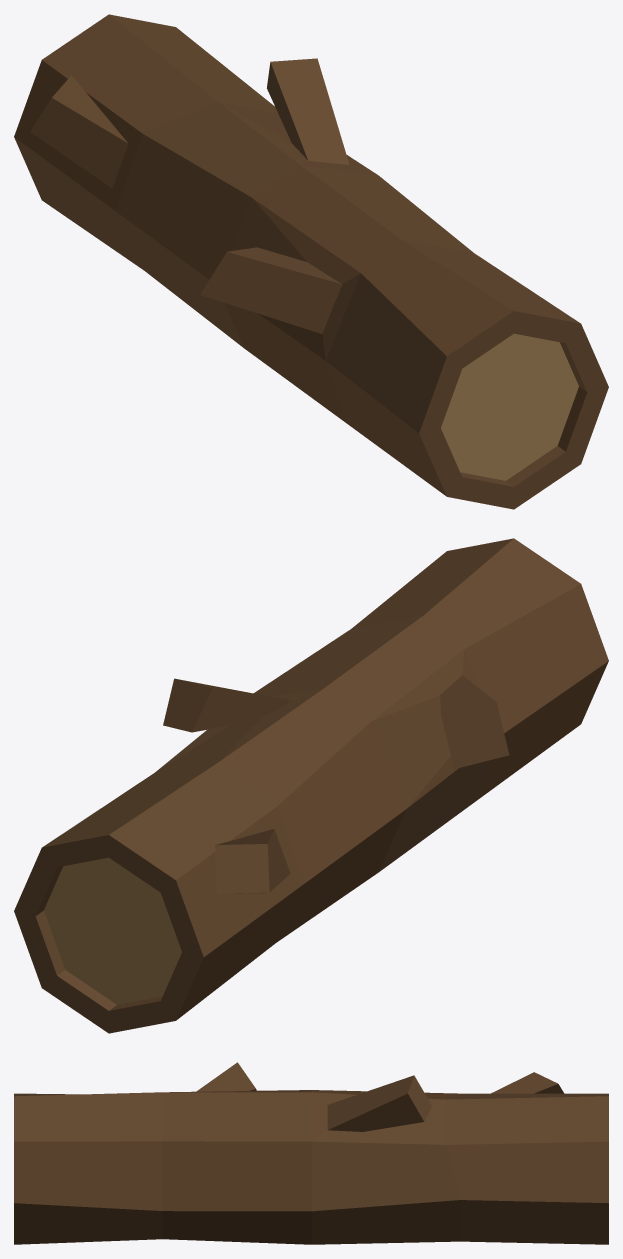
Rendered from BatangPohon2.fbx.
3 views of the same model, one above another, from view 1: azimuth 30°, elevation 25°; view 2: azimuth 150°, elevation 25°; view 3: azimuth 270°, elevation 25° (orthographic). The views are drawn at different scales.
Visible parts, largest first — view 1: log_6a; view 2: log_6a; view 3: log_6a.
Boxes of the visible parts, <box> form: log_6a: <box>14,14,608,509</box>; log_6a: <box>14,538,608,1033</box>; log_6a: <box>14,1062,608,1244</box>.
Size of the model in its own units: 70.52 by 64.6 by 197.
